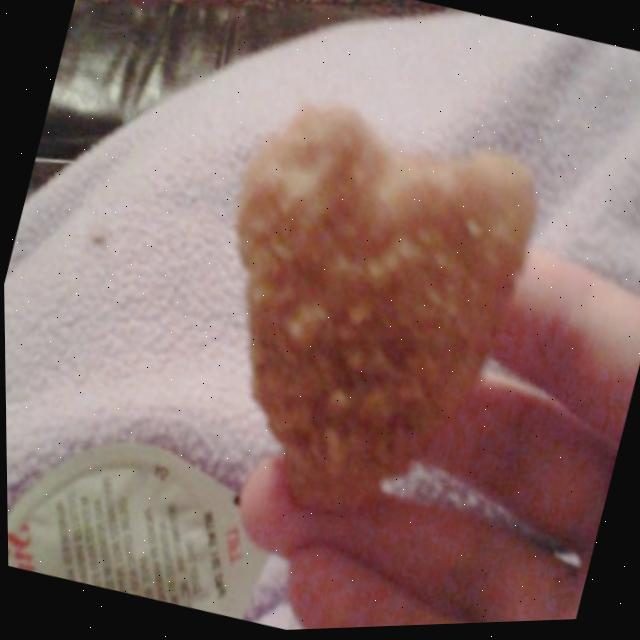鸡肉料理 含炸鸡: (139, 51, 592, 573)
